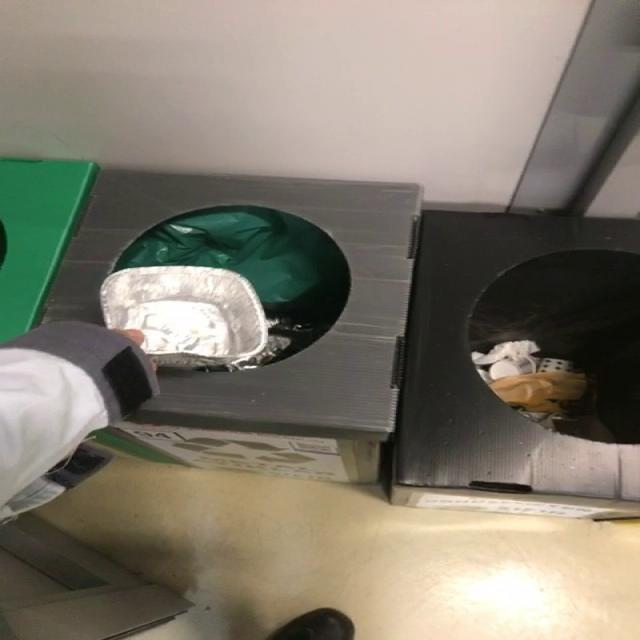bin: (43, 170, 420, 442)
metal: (100, 266, 268, 360)
